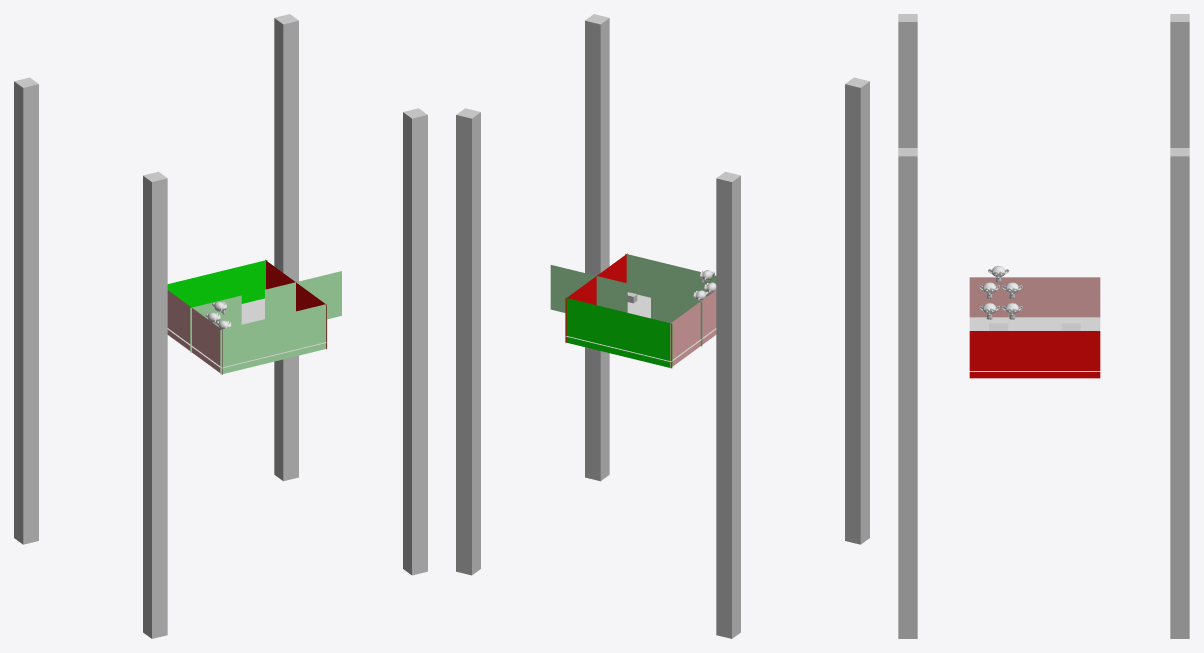
The model's file is baking-probs.gltf.
3 views of the same model, side by side, from view 1: azimuth 30°, elevation 25°; view 2: azimuth 150°, elevation 25°; view 3: azimuth 270°, elevation 25° (orthographic). The views are drawn at different scales.
Visible parts, largest first — view 1: west-cube.004, west-cube.006, west-cube.005, west-cube.003, east-wall, west--wall, south-wall, north-int-wall, north-wall, south-int-wall, floor; view 2: west-cube.003, west-cube.005, west-cube.006, west-cube.004, west--wall, east-wall, north-int-wall, south-wall, south-int-wall, north-wall, floor; view 3: west-cube.003, west-cube.004, north-wall, south-wall, west-cube.005, west-cube.006, floor.
Part boxes in pixels (box(x1,y1,x2,y2)): west-cube.004: box(403, 108, 427, 575); west-cube.006: box(14, 77, 38, 544); west-cube.005: box(143, 171, 167, 638); west-cube.003: box(274, 14, 298, 481); east-wall: box(220, 304, 327, 374); west--wall: box(167, 260, 267, 307); south-wall: box(167, 290, 222, 374); north-int-wall: box(265, 271, 341, 319); north-wall: box(265, 260, 326, 349); south-int-wall: box(190, 295, 241, 352); floor: box(167, 298, 327, 368); west-cube.003: box(456, 108, 480, 575); west-cube.005: box(845, 77, 869, 544); west-cube.006: box(716, 171, 740, 638); west-cube.004: box(585, 14, 609, 481); west--wall: box(565, 297, 672, 368); east-wall: box(625, 253, 716, 301); north-int-wall: box(550, 265, 627, 312); south-wall: box(670, 290, 716, 368); south-int-wall: box(651, 289, 702, 346); north-wall: box(565, 253, 627, 342); floor: box(564, 292, 716, 361); west-cube.003: box(1170, 148, 1189, 638); west-cube.004: box(898, 148, 917, 638); north-wall: box(969, 331, 1100, 378); south-wall: box(969, 277, 1100, 317); west-cube.005: box(898, 14, 917, 147); west-cube.006: box(1170, 14, 1189, 147); floor: box(969, 317, 1100, 371).
Size of the model in its own units: 74.24 by 117 by 64.24.
